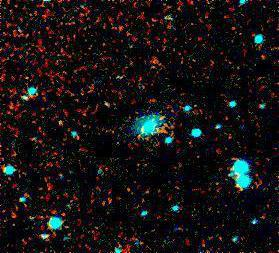star: (47, 106, 77, 136)
